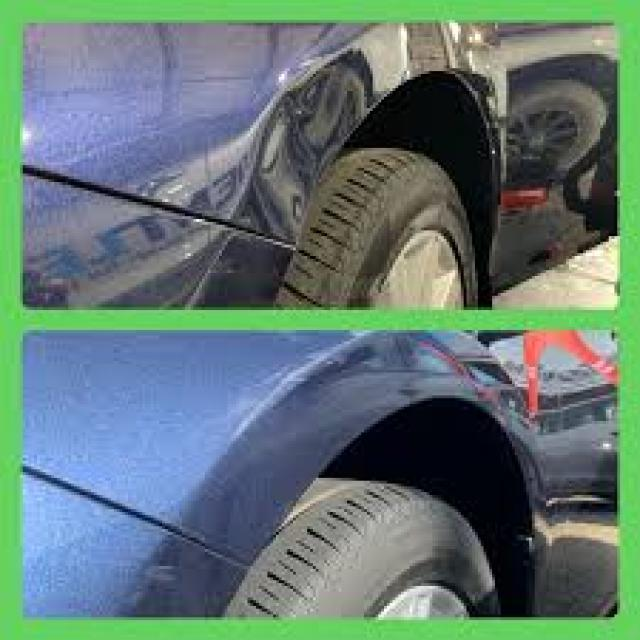dent-or-scratch: (246, 60, 383, 236)
